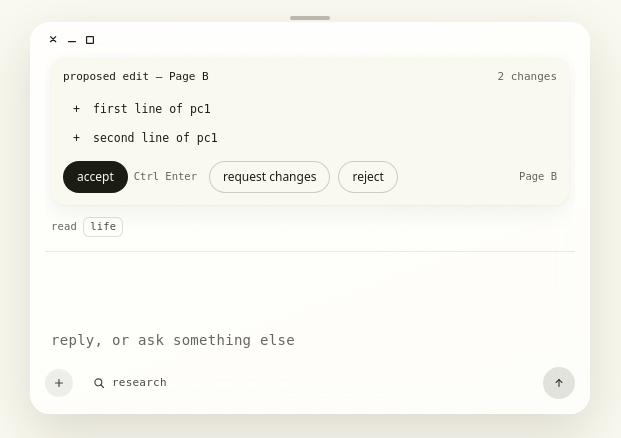
Test: AITerminal — propose_changes card (#98) › a 0-write accept (target page cannot be loaded) never settles the card to accepted
Check: the text box named "Message Pond" is enabled, box [45,328,575,353]
Click the button "accept". click: (95, 177)
box: [63,161,128,193]
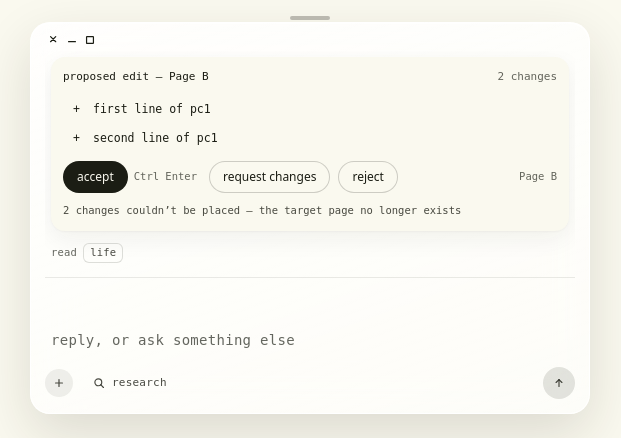
Check: the text "the target page no longer exists" is shown, box [259,204,461,216]
